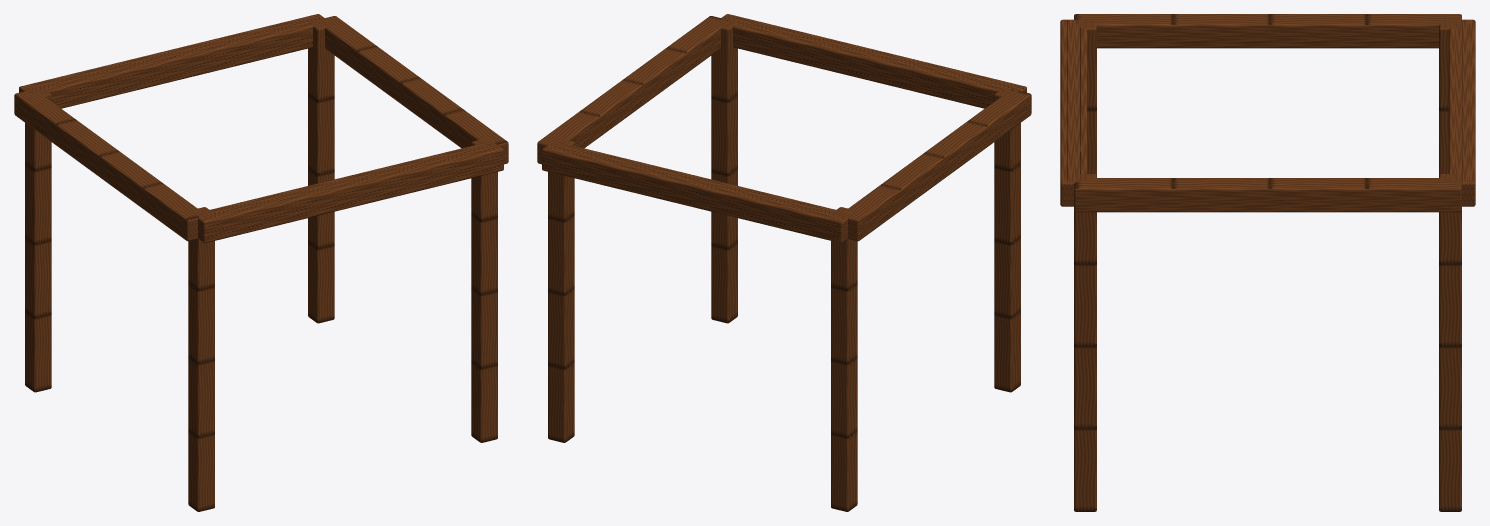
Rendered from rural-scavenging-settlements-drying-loft-frame-407558b3__26619.glb.
3 views of the same model, side by side, from view 1: azimuth 30°, elevation 25°; view 2: azimuth 150°, elevation 25°; view 3: azimuth 270°, elevation 25° (orthographic). The views are drawn at different scales.
Visible parts, largest first — view 1: drying-loft-frame; view 2: drying-loft-frame; view 3: drying-loft-frame.
Part boxes in pixels (x1,y1,x2,y2): drying-loft-frame: [14, 14, 508, 511]; drying-loft-frame: [537, 14, 1031, 511]; drying-loft-frame: [1060, 14, 1475, 511].
Bounding box in the file's own units: 2.14 × 1.88 × 2.14.
Materials: 1 (1 with a texture image).
